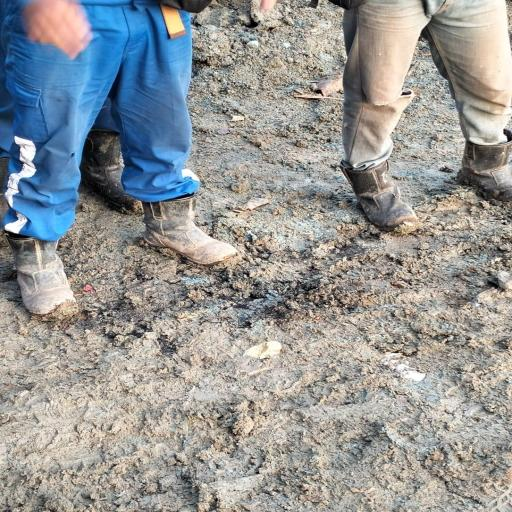safety_shoe: (1, 226, 83, 324), (146, 197, 246, 270), (330, 164, 423, 236), (450, 136, 512, 200)
